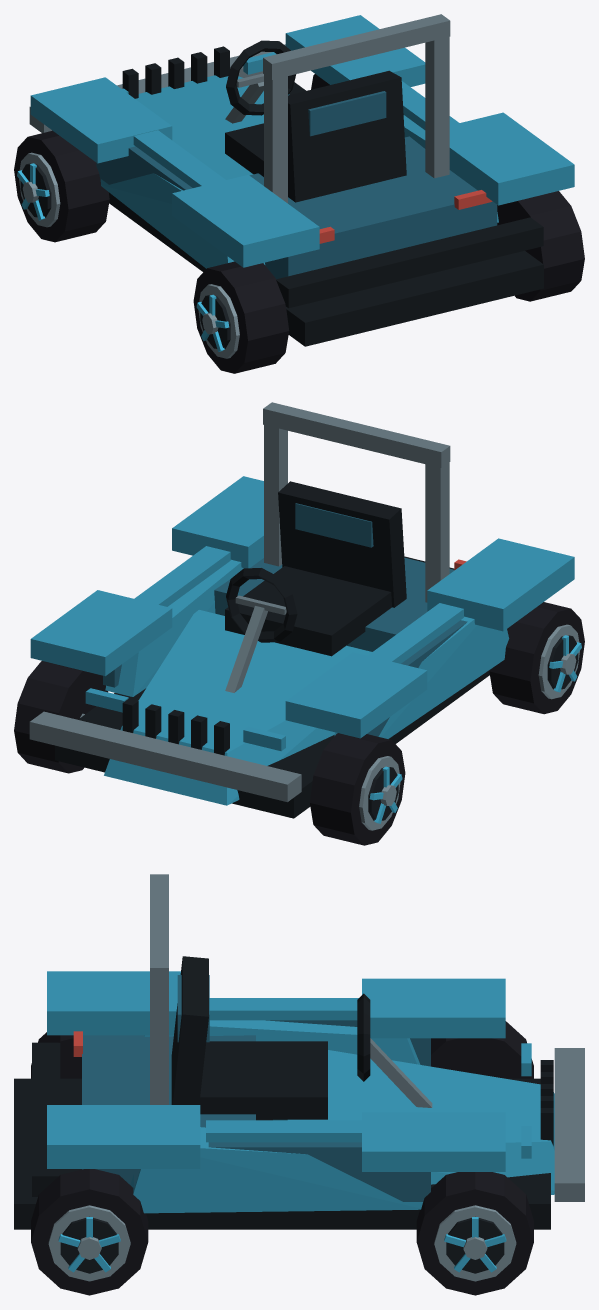
The model's file is kart.glb.
The picture shows the model from 3 angles, top to bottom: view 1: azimuth 30°, elevation 25°; view 2: azimuth 150°, elevation 25°; view 3: azimuth 270°, elevation 25°; orthographic projection. The views are drawn at different scales.
Visible parts, largest first — view 1: chassis, wheel-rear-left, wheel-front-left, wheel-rear-right; view 2: chassis, wheel-front-left, wheel-rear-left, wheel-front-right; view 3: chassis, wheel-rear-right, wheel-front-right, wheel-front-left, wheel-rear-left.
Boxes of the visible parts, x1=… form: chassis: x1=29, y1=14, x2=574, y2=346; wheel-rear-left: x1=193, y1=261, x2=289, y2=373; wheel-front-left: x1=14, y1=130, x2=109, y2=242; wheel-rear-right: x1=497, y1=191, x2=584, y2=301; chassis: x1=29, y1=402, x2=574, y2=818; wheel-front-left: x1=309, y1=733, x2=405, y2=845; wheel-rear-left: x1=489, y1=602, x2=584, y2=714; wheel-front-right: x1=14, y1=661, x2=108, y2=773; chassis: x1=14, y1=874, x2=584, y2=1229; wheel-rear-right: x1=31, y1=1169, x2=148, y2=1295; wheel-front-right: x1=416, y1=1172, x2=533, y2=1295; wheel-front-left: x1=431, y1=1021, x2=533, y2=1078; wheel-rear-left: x1=31, y1=1032, x2=81, y2=1078.
Size of the model in its own units: 2.38 by 1.67 by 3.02.
